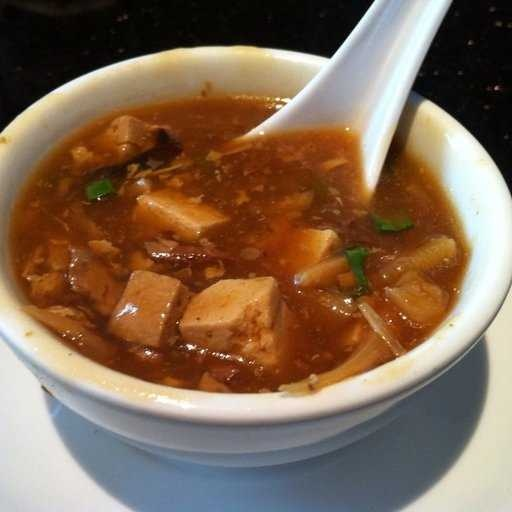soup: (30, 56, 449, 426)
